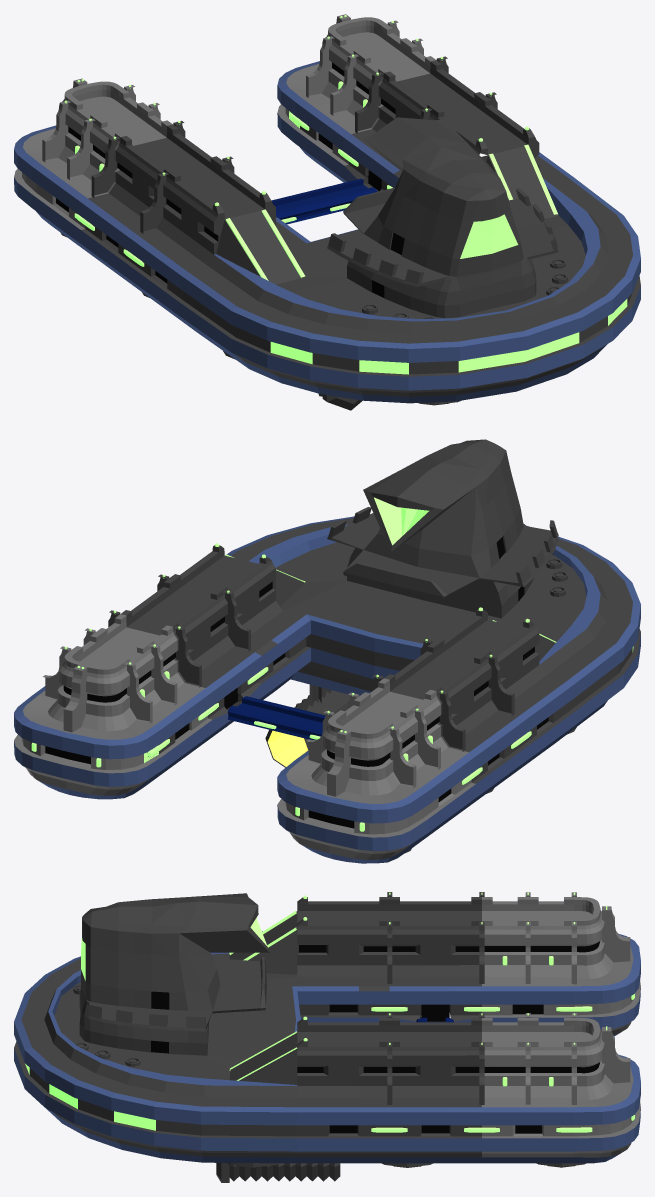
Rendered from spacestation4.gltf.
3 views of the same model, one above another, from view 1: azimuth 30°, elevation 25°; view 2: azimuth 150°, elevation 25°; view 3: azimuth 270°, elevation 25° (orthographic). The views are drawn at different scales.
Visible parts, largest first — view 1: ship, backlights; view 2: ship; view 3: ship, backlights.
Boxes of the visible parts, x1=… form: ship: x1=14, y1=14, x2=640, y2=410; backlights: x1=270, y1=299, x2=627, y2=374; ship: x1=14, y1=439, x2=640, y2=863; ship: x1=14, y1=892, x2=640, y2=1182; backlights: x1=25, y1=1063, x2=155, y2=1130.
Bounding box in the file's own units: 2.1 × 1.36 × 3.07.
